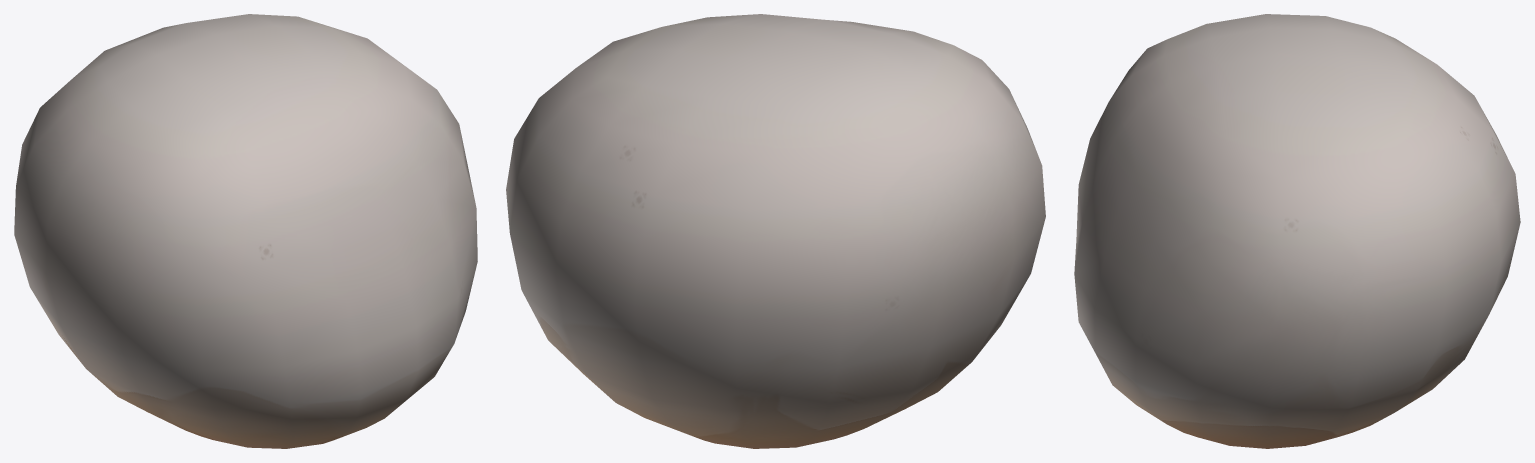
The model's file is PuffBall_006.fbx.
The picture shows the model from 3 angles, left to right: view 1: azimuth 30°, elevation 25°; view 2: azimuth 150°, elevation 25°; view 3: azimuth 270°, elevation 25°; orthographic projection. The views are drawn at different scales.
Parts seen in each view (by area): view 1: BuffBall_06_LOD0; view 2: BuffBall_06_LOD0; view 3: BuffBall_06_LOD0.
Part boxes in pixels (<box>): BuffBall_06_LOD0: <box>14,14,477,448</box>; BuffBall_06_LOD0: <box>506,14,1045,448</box>; BuffBall_06_LOD0: <box>1074,14,1520,448</box>.
Size of what is drawn, in the model's own units: 17.73 by 13.87 by 16.39.
